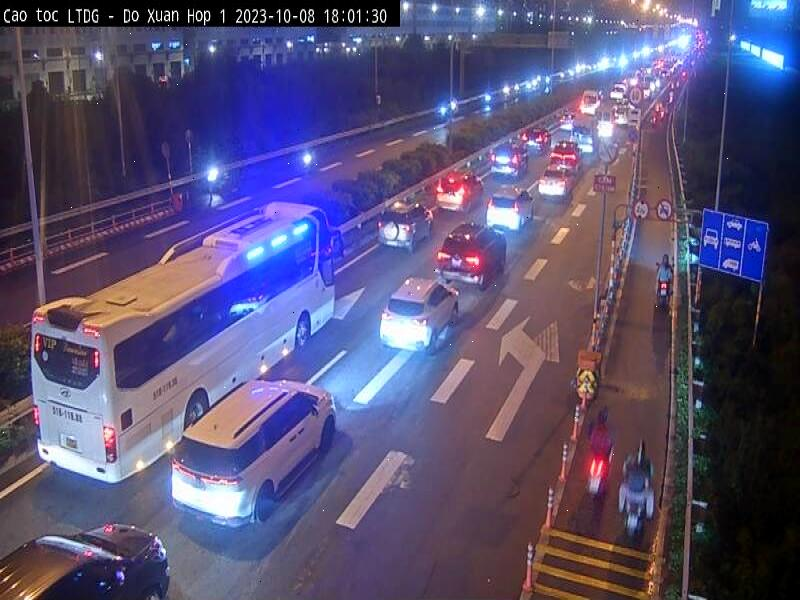bus: (29, 199, 346, 484)
car: (170, 378, 338, 532), (0, 520, 169, 600), (381, 273, 462, 354), (437, 222, 507, 288), (379, 199, 433, 251), (435, 165, 484, 215), (487, 186, 534, 228), (540, 159, 577, 201), (492, 141, 528, 181), (520, 126, 554, 154)
motorcycle: (621, 496, 647, 538), (657, 277, 671, 309)
